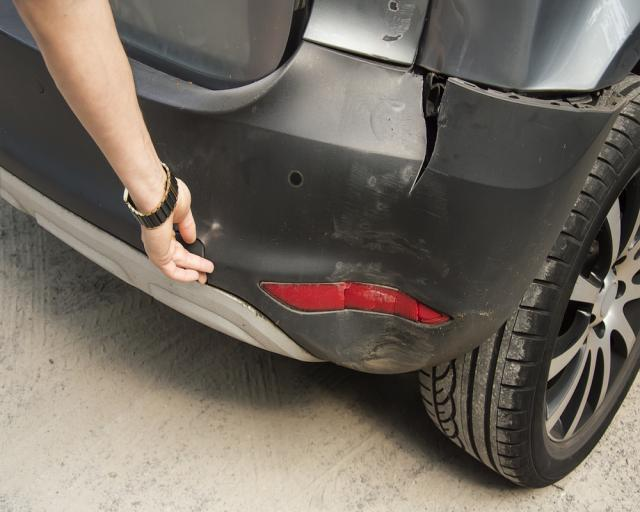crack: (407, 78, 449, 196)
dent: (333, 176, 446, 370)
scratch: (383, 0, 414, 46)
